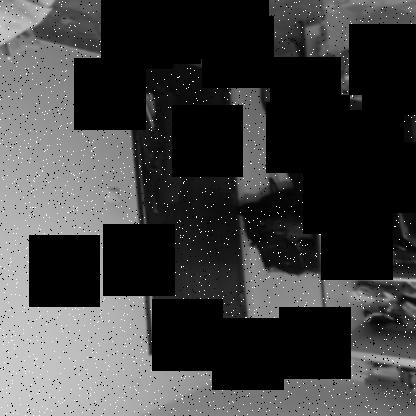Porte: (122, 46, 251, 355)
